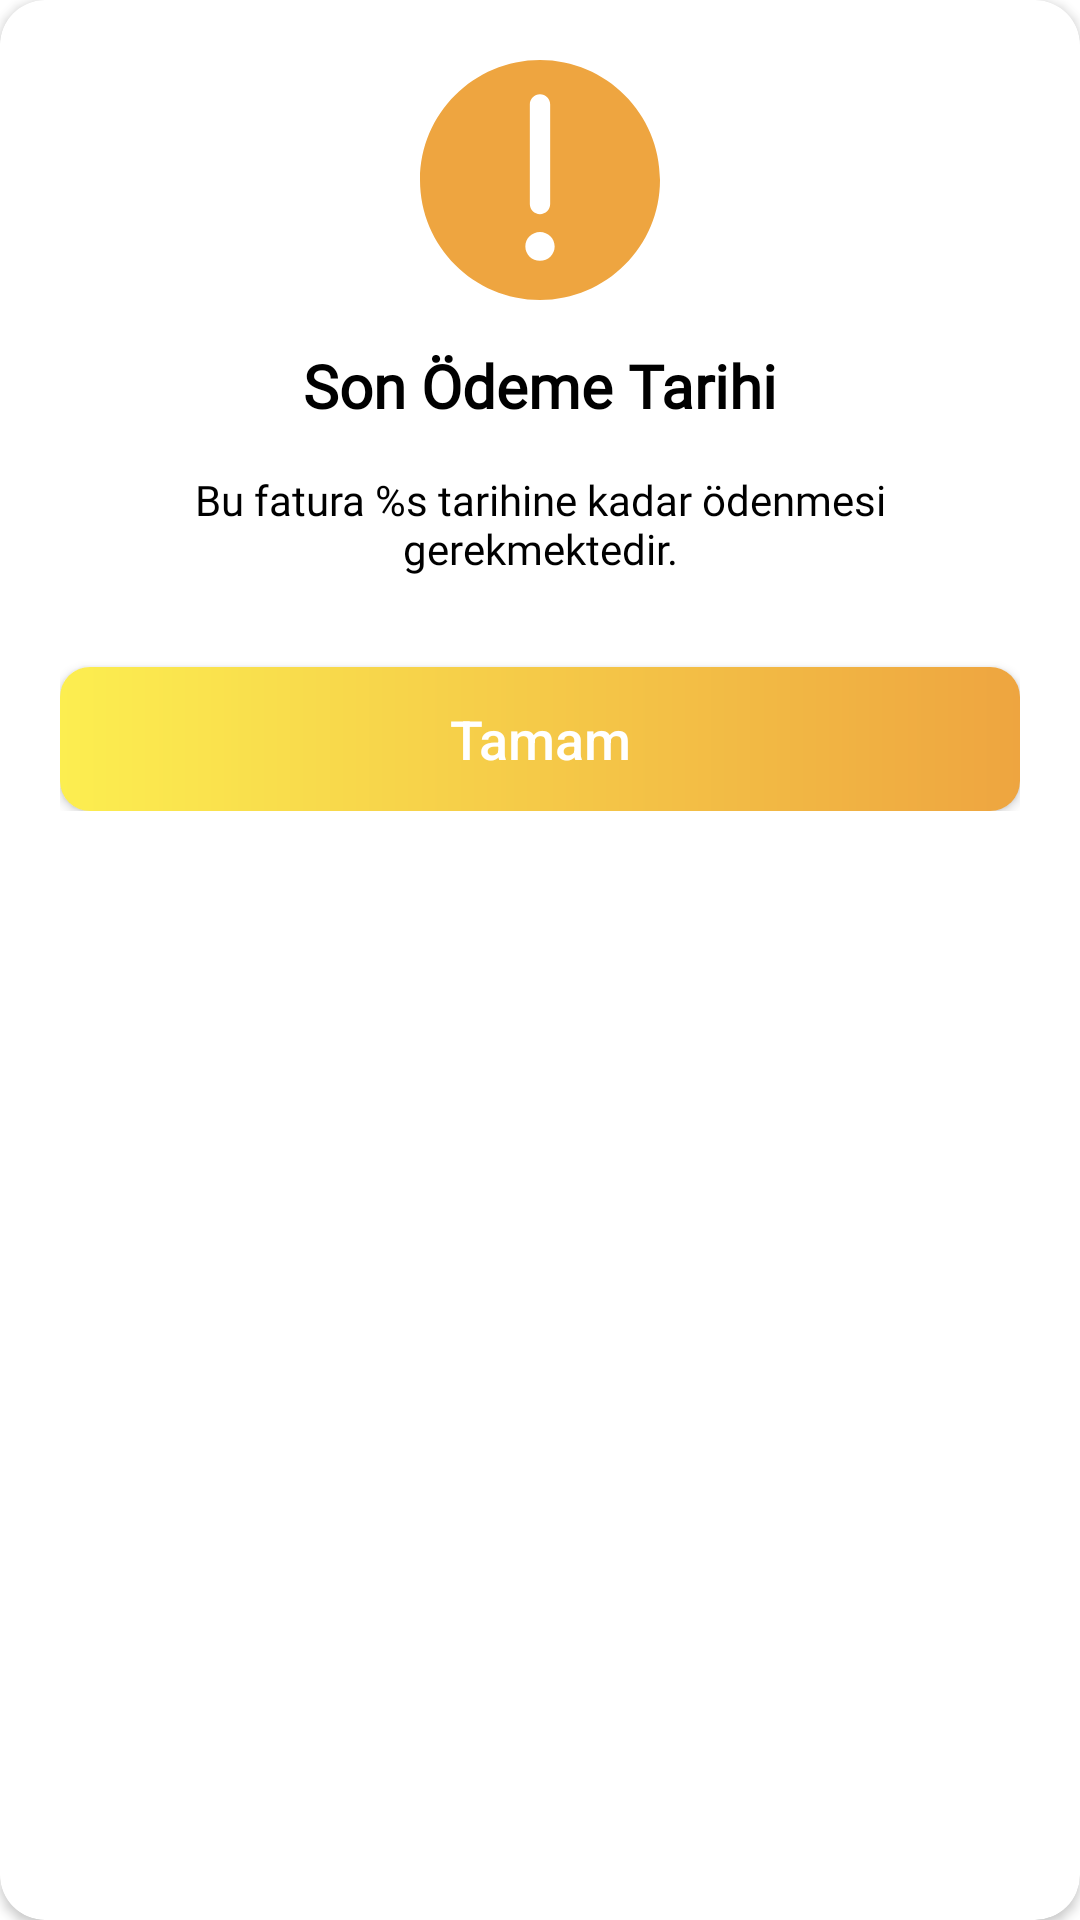

Locate icon controls on the screen. Image size 1080w x 1920h, boxes as [x1=x1, y1=y1, x2=x2, y2=y2].
attention: [x1=420, y1=60, x2=660, y2=300]
